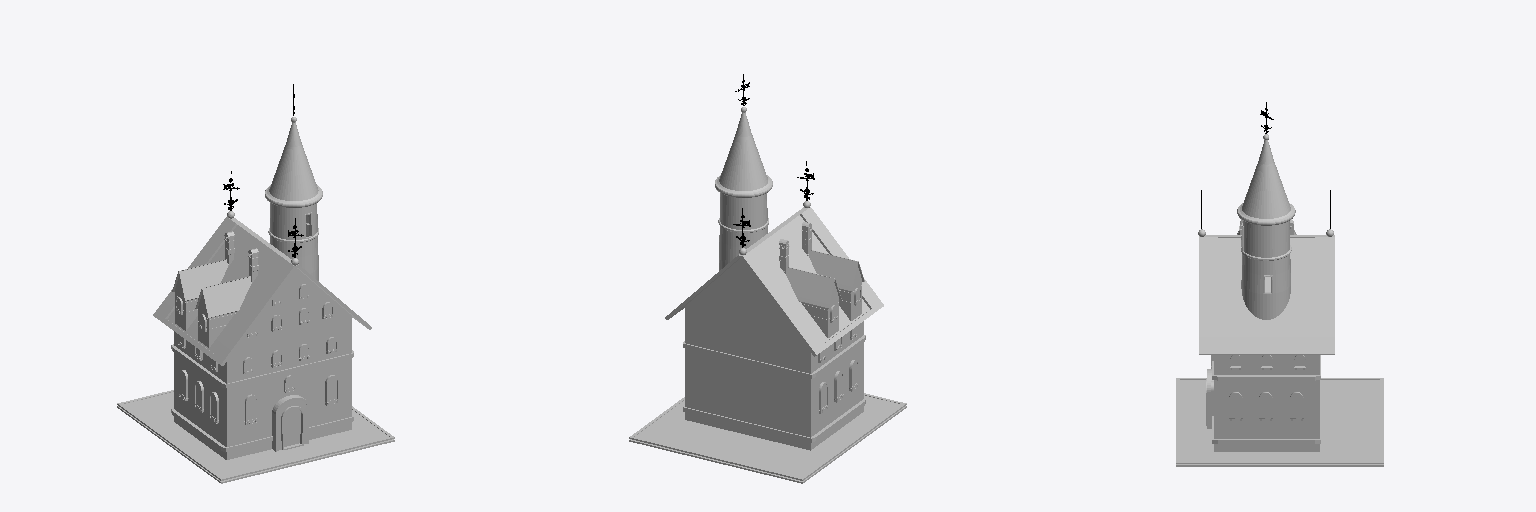
The model's file is TownHall.obj.
3 renders of one model, left to right at view 1: azimuth 30°, elevation 25°; view 2: azimuth 150°, elevation 25°; view 3: azimuth 270°, elevation 25°, orthographic.
Parts seen in each view (by area): view 1: structure, Floor, tower, castleRender:castle:pCube4, door, castleRender:castle:pCube6; view 2: structure, Floor, tower, castleRender:castle:pCube6, castleRender:castle:pCube4; view 3: structure, Floor, tower.
Part boxes in pixels (x1,y1,x2,y2): structure: (153,217,371,459); Floor: (117,390,394,483); tower: (265,84,322,280); castleRender:castle:pCube4: (195,276,251,347); door: (272,395,308,451); castleRender:castle:pCube6: (172,259,227,330); structure: (665,207,883,450); Floor: (629,393,906,483); tower: (715,74,772,270); castleRender:castle:pCube6: (786,267,841,337); castleRender:castle:pCube4: (809,250,864,320); structure: (1199,219,1334,451); Floor: (1176,378,1383,466); tower: (1237,102,1295,319).
Size of the model in its own units: 0.0561 by 0.1043 by 0.0582.